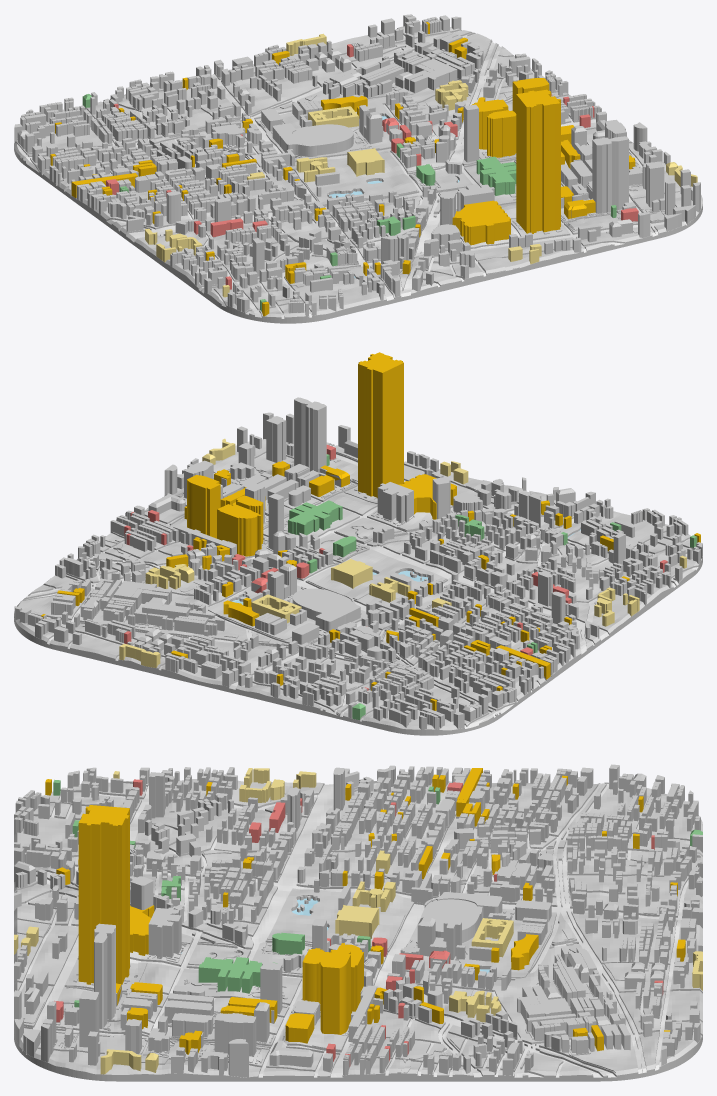
File: Neike_2000m_1x1_osm.glb
3 views of the same model, one above another, from view 1: azimuth 30°, elevation 25°; view 2: azimuth 150°, elevation 25°; view 3: azimuth 270°, elevation 25° (orthographic). The views are drawn at different scales.
Parts seen in each view (by area): view 1: color_0, color_5, color_2, color_3, color_6, color_4; view 2: color_0, color_5, color_3, color_2, color_6, color_4; view 3: color_0, color_5, color_2, color_3, color_6, color_4.
Boxes of the visible parts, x1=… form: color_0: x1=14, y1=14, x2=702, y2=323; color_5: x1=50, y1=22, x2=635, y2=316; color_2: x1=14, y1=30, x2=686, y2=318; color_3: x1=145, y1=33, x2=697, y2=297; color_6: x1=82, y1=94, x2=616, y2=311; color_4: x1=106, y1=44, x2=638, y2=289; color_0: x1=14, y1=397, x2=702, y2=735; color_5: x1=41, y1=352, x2=700, y2=710; color_3: x1=119, y1=438, x2=686, y2=667; color_2: x1=14, y1=445, x2=698, y2=728; color_6: x1=288, y1=454, x2=697, y2=719; color_4: x1=124, y1=444, x2=667, y2=690; color_0: x1=14, y1=764, x2=702, y2=1081; color_5: x1=45, y1=768, x2=685, y2=1054; color_2: x1=14, y1=783, x2=697, y2=1077; color_3: x1=14, y1=768, x2=702, y2=1074; color_6: x1=53, y1=779, x2=702, y2=1007; color_4: x1=54, y1=779, x2=663, y2=1066.
Bounding box in the file's own units: 200 × 54 × 200.
